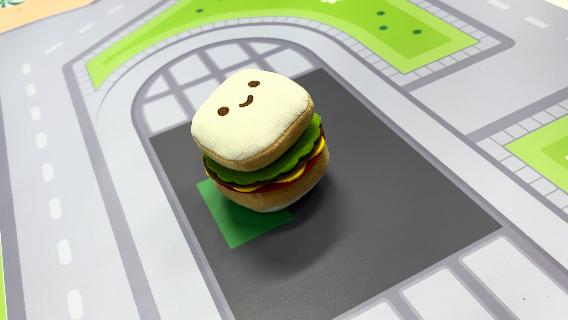sandwich: (190, 66, 332, 214)
